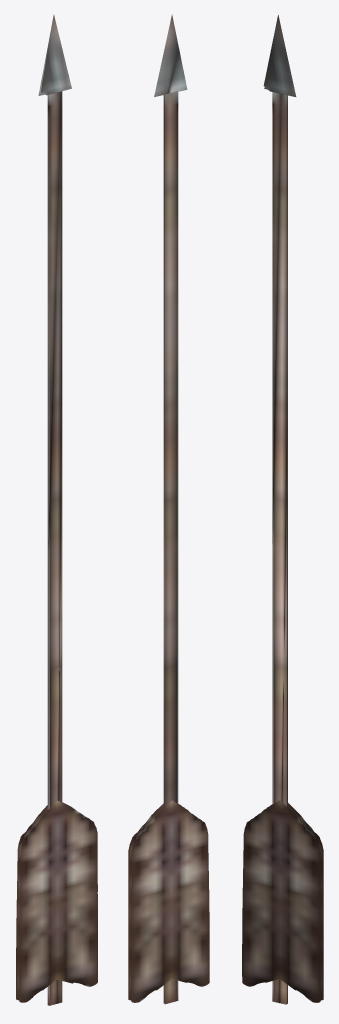
Rendered from bow_model.fbx.
3 views of the same model, side by side, from view 1: azimuth 30°, elevation 25°; view 2: azimuth 210°, elevation 25°; view 3: azimuth 330°, elevation 25° (orthographic).
Parts seen in each view (by area): view 1: polySurface4; view 2: polySurface4; view 3: polySurface4.
Part boxes in pixels (x1,y1,x2,y2): polySurface4: (16, 14, 97, 1005); polySurface4: (128, 14, 209, 1004); polySurface4: (242, 15, 323, 1004).
Bounding box in the file's own units: 15.93 × 185 × 1.08.
1 material, 1 textured.
